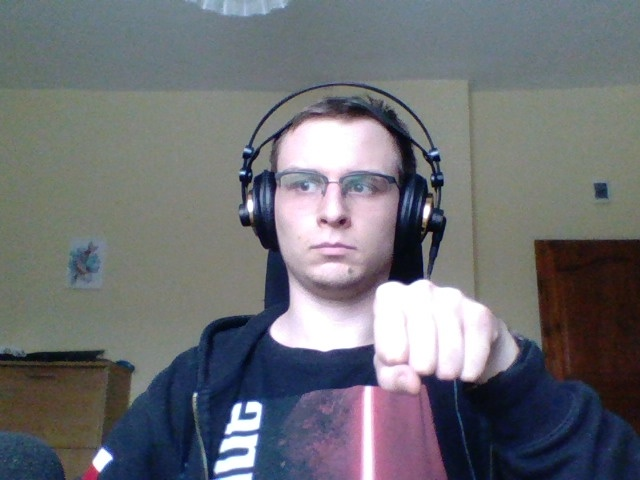yes: (364, 273, 518, 406)
